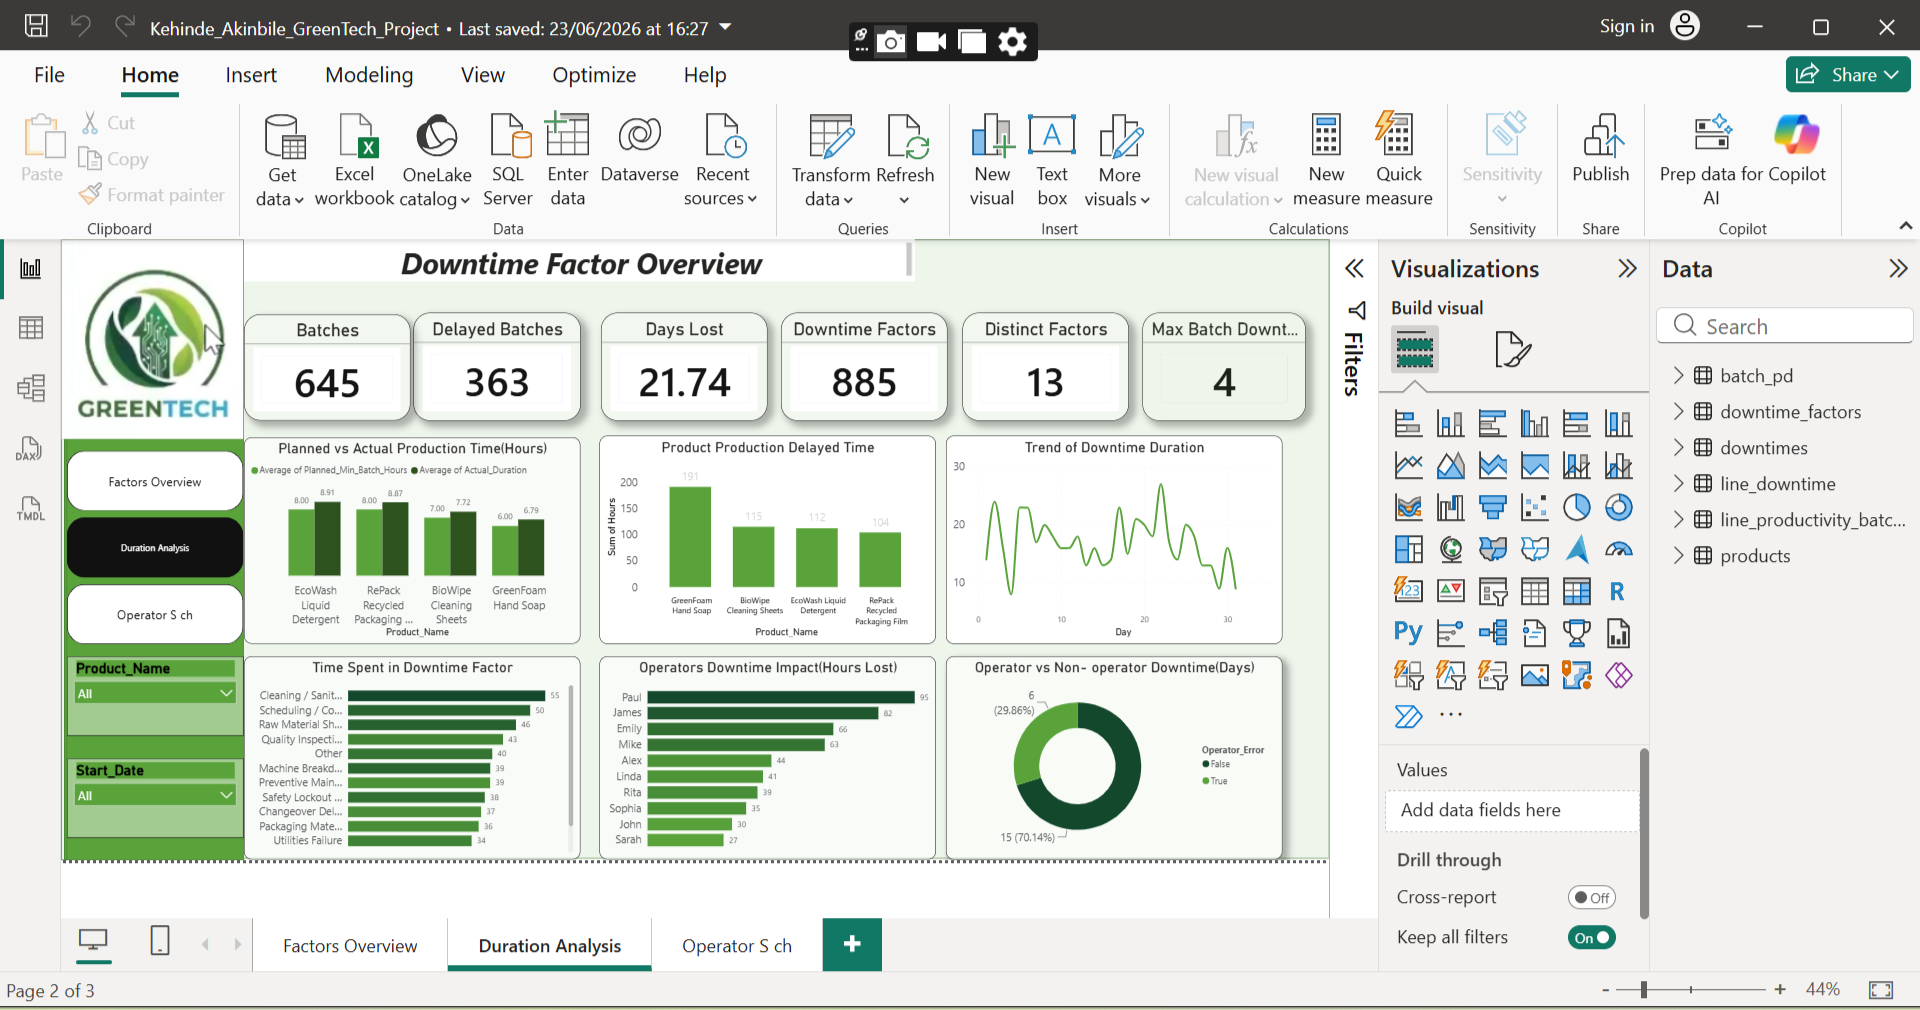

The page's visual inventory and layout, read from the dashboard file:
{"tool":"powerbi","page":{"name":"Duration Analysis","canvas":[1900,930],"ordinal":1},"visuals":[{"type":"cardVisual","title":"Max Batch Downtimes","fields":{"Data":["downtimes.Max Downtime Per Batch"]},"box":[1620.6,110.1,245,161.8],"z":0},{"type":"shape","box":[4.7,0,1896.1,928.1],"z":1000},{"type":"shape","box":[4.7,2.3,269.5,928.1],"z":2000},{"type":"shape","box":[0,0,9.4,930.5],"z":3000},{"type":"textbox","box":[274.2,0,1005.5,63.3],"z":4000},{"type":"cardVisual","title":"Batches","fields":{"Data":["CountNonNull(batch_pd.Batch_ID)"]},"box":[274.2,112.4,249.5,159.6],"z":5000},{"type":"cardVisual","title":"Delayed Batches","fields":{"Data":["Count(downtimes.Batch_ID)"]},"box":[527.4,110.2,250.8,161.7],"z":6000},{"type":"cardVisual","title":"Days Lost","fields":{"Data":["Sum(downtimes.Days)"]},"box":[809.2,110.1,249.5,161.8],"z":7000},{"type":"cardVisual","title":"Downtime Factors","fields":{"Data":["CountNonNull(downtimes.Factor_ID)"]},"box":[1078.9,110.1,249.5,161.8],"z":8000},{"type":"cardVisual","title":"Distinct Factors","fields":{"Data":["Count(downtimes.Factor_ID)"]},"box":[1350.8,110.1,249.5,161.8],"z":9000},{"type":"clusteredColumnChart","title":"Planned vs Actual Production Time(Hours)","fields":{"Category":["products.Product_Name"],"Y":["Avg(batch_pd.Planned_Min_Batch_Hours)","Avg(batch_pd.Actual_Duration)"]},"box":[274.2,297.7,503.9,309.4],"z":10000},{"type":"columnChart","title":"Product Production Delayed Time","fields":{"Y":["Sum(downtimes.Hours)"],"Category":["products.Product_Name"]},"box":[806.3,295.3,503.9,311.7],"z":11000},{"type":"lineChart","title":"Trend of Downtime Duration","fields":{"Y":["Sum(downtimes.Hours)"],"Category":["batch_pd.Start_Date.Variation.Date Hierarchy.Year","batch_pd.Start_Date.Variation.Date Hierarchy.Quarter","batch_pd.Start_Date.Variation.Date Hierarchy.Month","batch_pd.Start_Date.Variation.Date Hierarchy.Day"]},"box":[1326.6,295.3,503.9,311.7],"z":12000},{"type":"clusteredBarChart","title":"Time Spent in Downtime Factor","fields":{"Category":["downtime_factors.Factor_Name"],"Y":["Sum(downtimes.Hours)"]},"box":[274.2,625.8,503.9,304.7],"z":13000},{"type":"clusteredBarChart","title":"Operators Downtime Impact(Hours Lost)","fields":{"Category":["batch_pd.Operator"],"Y":["Sum(downtimes.Hours)"]},"box":[806.3,625.8,503.9,304.7],"z":14000},{"type":"donutChart","title":"Operator vs Non- operator Downtime(Days)","fields":{"Category":["downtime_factors.Operator_Error"],"Y":["Sum(downtimes.Days)"]},"box":[1326.6,625.8,503.9,304.7],"z":15000},{"type":"slicer","fields":{"Values":["products.Product_Name"]},"box":[9.4,625.8,264.8,119.5],"z":16000},{"type":"slicer","fields":{"Values":["batch_pd.Start_Date"]},"box":[9.4,778.1,264.8,119.5],"z":17000},{"type":"image","box":[0,0,274.2,300],"z":18000},{"type":"pageNavigator","box":[9.4,316.4,264.8,290.6],"z":19000}]}

Visuals, with their boxes on the page's 1900x930 design canvas (x1, y1, x2, y2). These are canvas units, not pixel positions in the 1920x1010 screenshot, which may show the page scaled, cropped or inside an application window:
"Max Batch Downtimes" cardVisual: (1621, 110, 1866, 272)
shape: (5, 0, 1901, 928)
shape: (5, 2, 274, 930)
shape: (0, 0, 9, 930)
textbox: (274, 0, 1280, 63)
"Batches" cardVisual: (274, 112, 524, 272)
"Delayed Batches" cardVisual: (527, 110, 778, 272)
"Days Lost" cardVisual: (809, 110, 1059, 272)
"Downtime Factors" cardVisual: (1079, 110, 1328, 272)
"Distinct Factors" cardVisual: (1351, 110, 1600, 272)
"Planned vs Actual Production Time(Hours)" clusteredColumnChart: (274, 298, 778, 607)
"Product Production Delayed Time" columnChart: (806, 295, 1310, 607)
"Trend of Downtime Duration" lineChart: (1327, 295, 1830, 607)
"Time Spent in Downtime Factor" clusteredBarChart: (274, 626, 778, 930)
"Operators Downtime Impact(Hours Lost)" clusteredBarChart: (806, 626, 1310, 930)
"Operator vs Non- operator Downtime(Days)" donutChart: (1327, 626, 1830, 930)
slicer - products.Product_Name: (9, 626, 274, 745)
slicer - batch_pd.Start_Date: (9, 778, 274, 898)
image: (0, 0, 274, 300)
pageNavigator: (9, 316, 274, 607)
